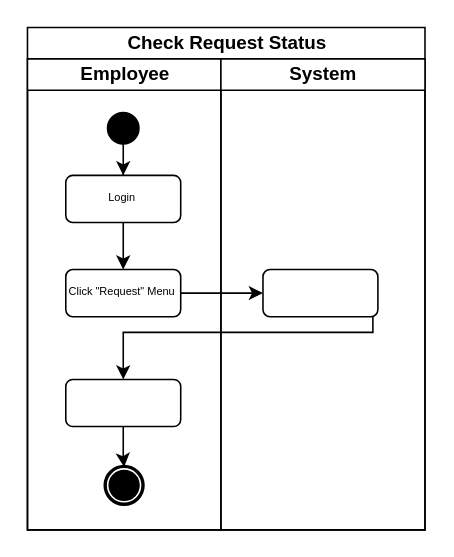
Some shapes in this 454 by 557 pixel diagram are drawn without their labels. Each missing label, with the centre of its shape:
Check Request: (122,402)
Display Request Page: (319,292)
